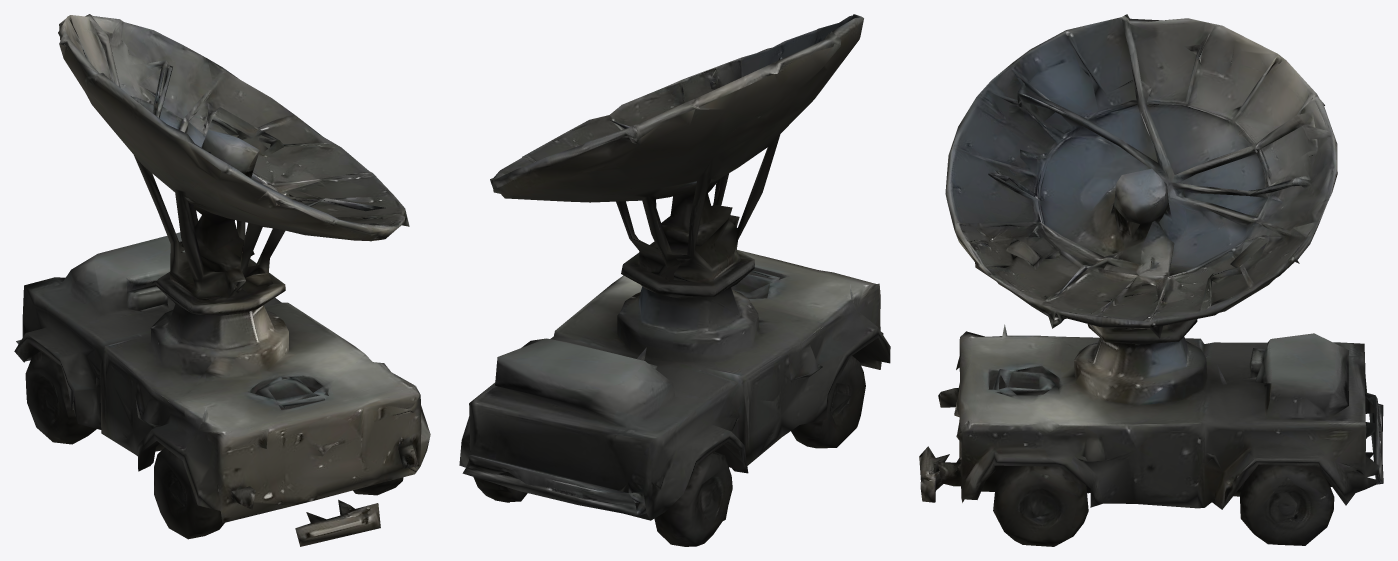
The model's file is xd_radar.glb.
3 views of the same model, side by side, from view 1: azimuth 30°, elevation 25°; view 2: azimuth 150°, elevation 25°; view 3: azimuth 270°, elevation 25° (orthographic). The views are drawn at different scales.
Visible parts, largest first — view 1: tripo_node_d4d02458-3e55-4cd2-8ec2-12af4db0c91e; view 2: tripo_node_d4d02458-3e55-4cd2-8ec2-12af4db0c91e; view 3: tripo_node_d4d02458-3e55-4cd2-8ec2-12af4db0c91e.
Boxes of the visible parts, x1,y1,x2,y2 form: tripo_node_d4d02458-3e55-4cd2-8ec2-12af4db0c91e: [14, 14, 430, 546]; tripo_node_d4d02458-3e55-4cd2-8ec2-12af4db0c91e: [459, 14, 890, 546]; tripo_node_d4d02458-3e55-4cd2-8ec2-12af4db0c91e: [919, 14, 1383, 546].
Bounding box in the file's own units: 0.7096 × 1 × 0.993.
1 material, 1 textured.
